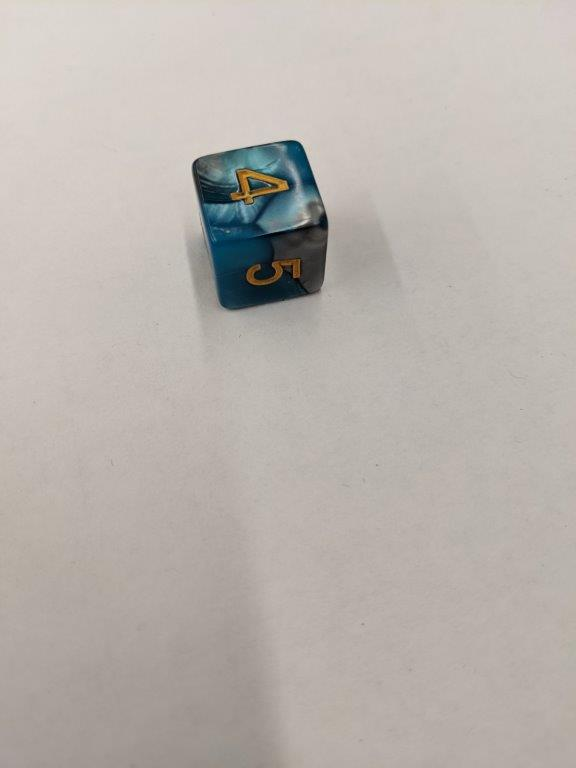d6-4: (188, 139, 328, 314)
